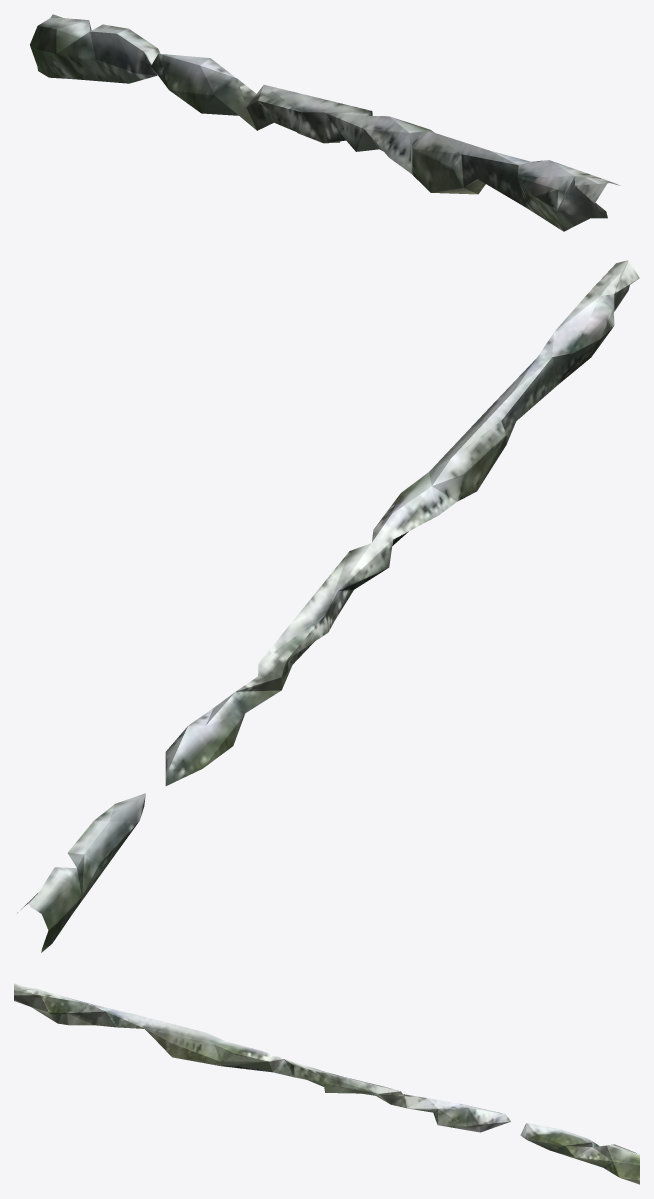
3 renders of one model, top to bottom at view 1: azimuth 30°, elevation 25°; view 2: azimuth 150°, elevation 25°; view 3: azimuth 270°, elevation 25°, orthographic. The views are drawn at different scales.
Bounding box in the file's own units: 0.2948 × 0.9431 × 2.95.
1 material, 1 textured.
